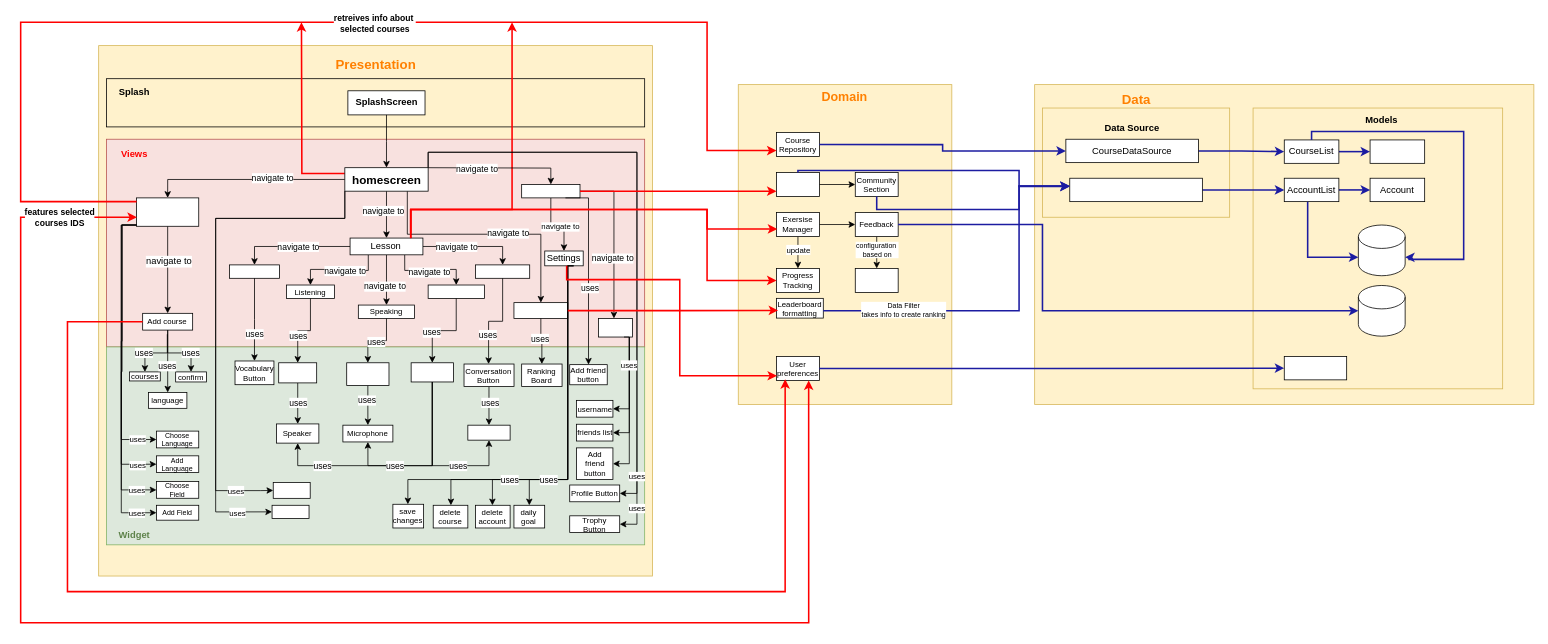
Image size: 1548x644. Some labels were removed from this diagram. The box of each missing label's shape, as (x1, y1, x2, y2) in pixels:
AccountDataSource: (1069, 177, 1202, 202)
Add Friend: (598, 318, 633, 337)
Answer: (854, 268, 898, 292)
Conversation: (475, 264, 530, 278)
Course: (1369, 139, 1425, 163)
course management: (136, 197, 199, 226)
FireData Base: (1358, 224, 1405, 276)
JetPack preferences: (1283, 356, 1347, 380)
Leaderboard: (513, 302, 568, 318)
Listening Button: (278, 362, 317, 383)
OpenAI API: (1358, 285, 1405, 336)
Profile: (521, 184, 580, 198)
Profiles Data: (776, 172, 819, 196)
Resume: (272, 482, 310, 498)
Review: (271, 505, 309, 518)
Speaking Button: (346, 362, 389, 386)
Test: (427, 284, 484, 298)
Test Button: (410, 362, 453, 382)
Text bar: (467, 424, 510, 440)
Vocabulary: (229, 264, 279, 278)
